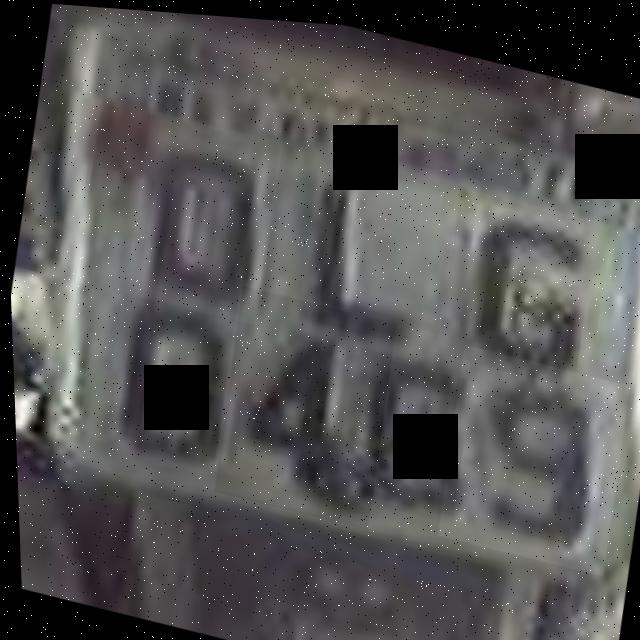4: (203, 279, 400, 526)
6: (310, 304, 519, 554)
9: (428, 335, 633, 569)
G: (430, 182, 614, 384)
L: (259, 138, 448, 349)
O: (117, 105, 286, 323)
